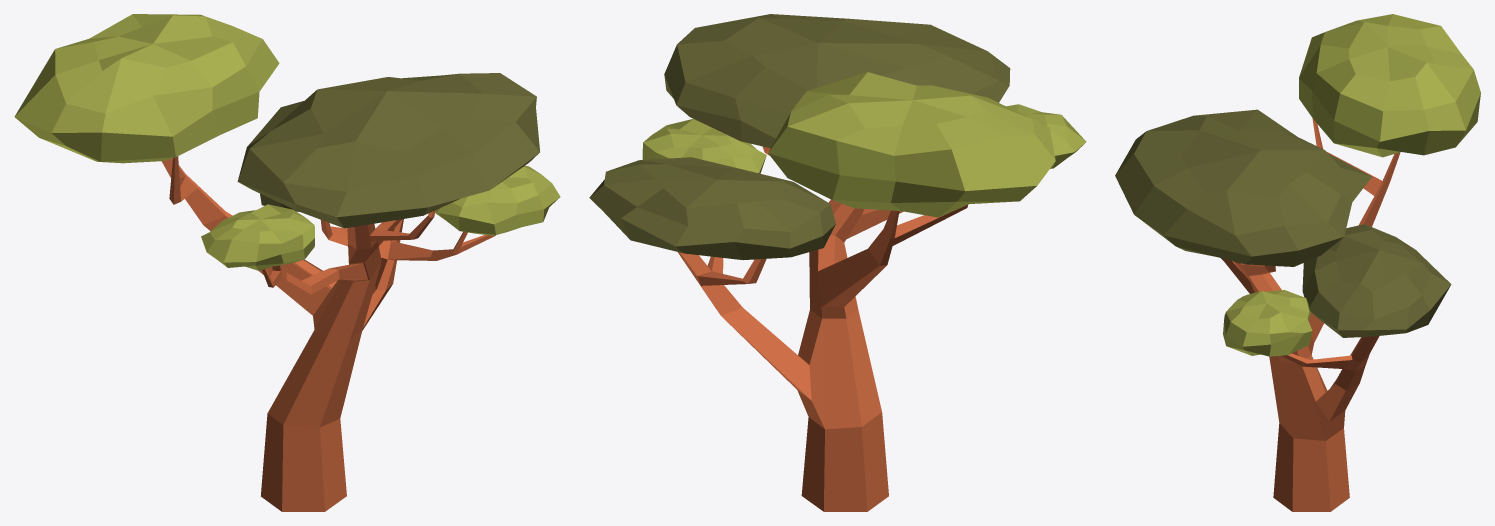
The model's file is Baum3.fbx.
The picture shows the model from 3 angles, left to right: view 1: azimuth 30°, elevation 25°; view 2: azimuth 150°, elevation 25°; view 3: azimuth 270°, elevation 25°; orthographic projection. The views are drawn at different scales.
Parts seen in each view (by area): view 1: Baum2; view 2: Baum2; view 3: Baum2.
Boxes of the visible parts, x1=… form: Baum2: x1=14, y1=14, x2=560, y2=511; Baum2: x1=589, y1=14, x2=1086, y2=511; Baum2: x1=1115, y1=14, x2=1480, y2=511.
Size of the model in its own units: 7.53 by 7.13 by 5.79.
